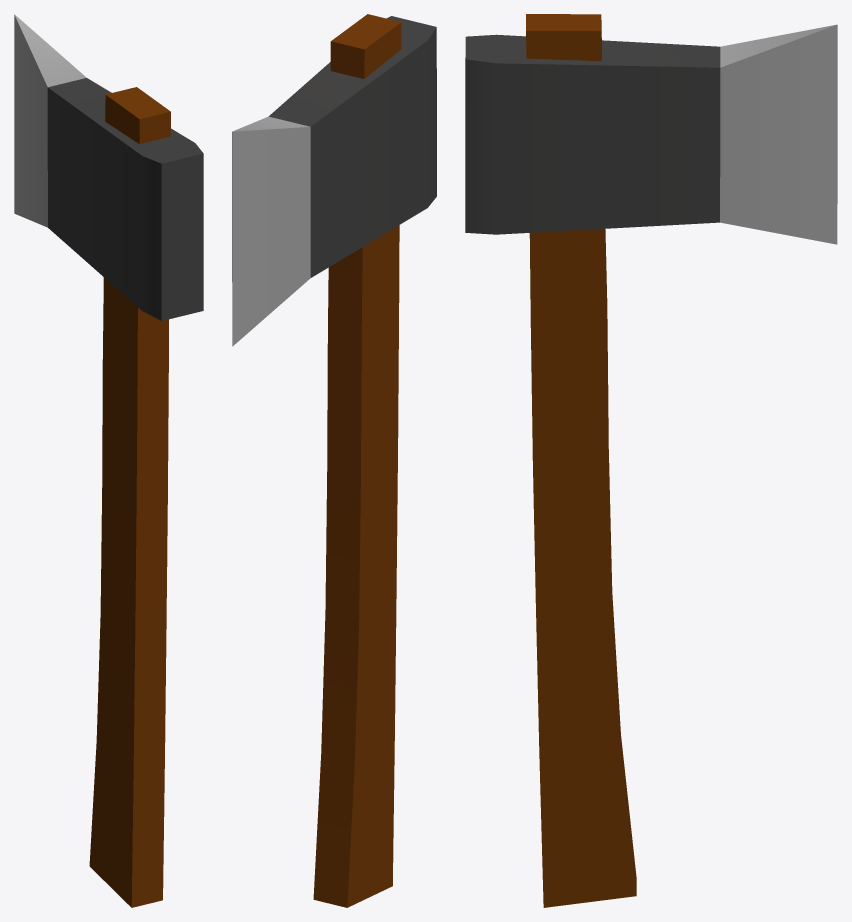
File: Unturned Axe.fbx
3 renders of one model, left to right at view 1: azimuth 30°, elevation 25°; view 2: azimuth 150°, elevation 25°; view 3: azimuth 270°, elevation 25°, orthographic. The views are drawn at different scales.
Visible parts, largest first — view 1: pCube3; view 2: pCube3; view 3: pCube3.
Boxes of the visible parts, <box> form: pCube3: <box>14,14,203,907</box>; pCube3: <box>232,14,436,907</box>; pCube3: <box>465,14,837,907</box>.
Size of the model in its own units: 0.9651 by 13.82 by 5.32.
